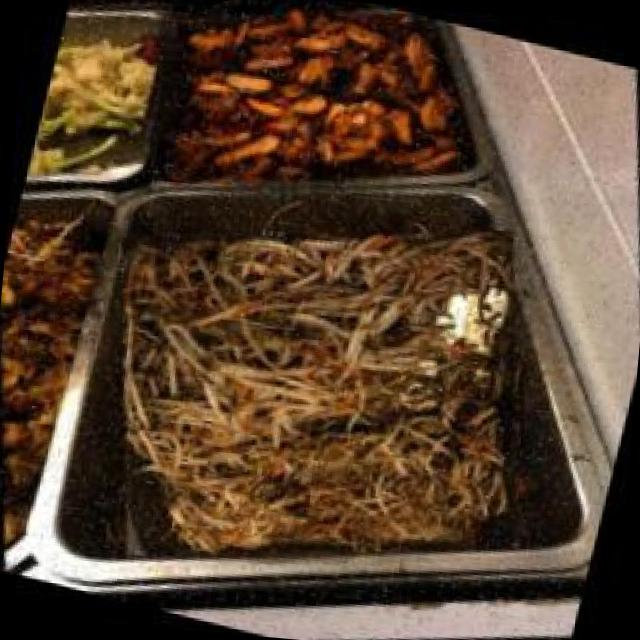mung_bean_sprouts: (41, 133, 601, 640)
